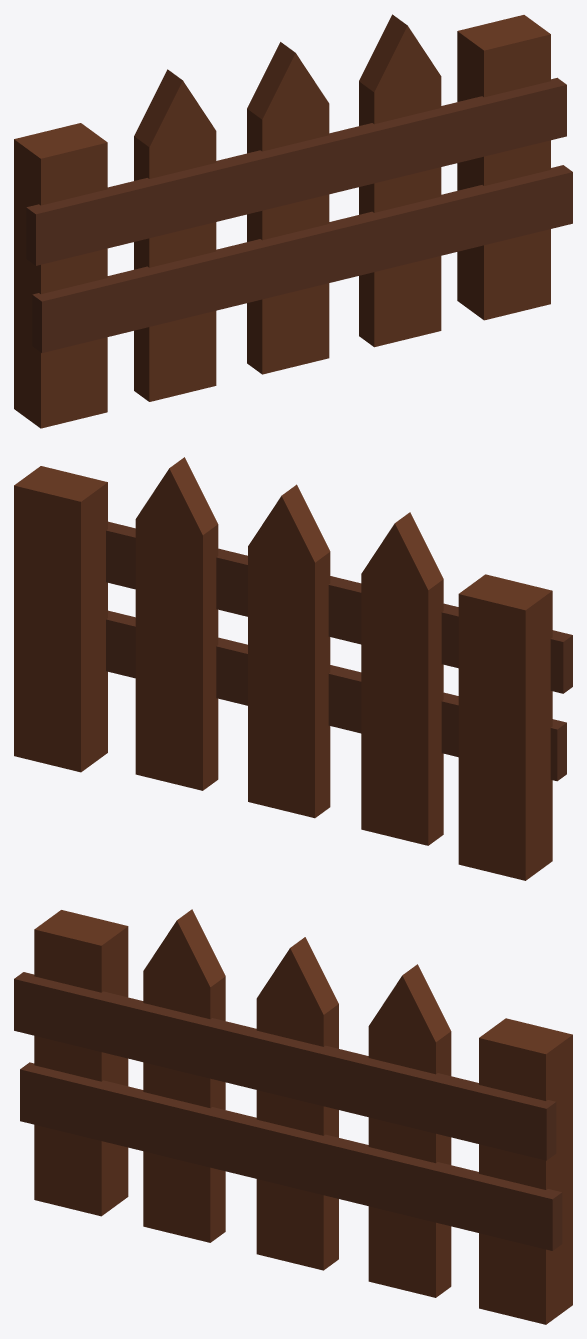
File: Fence.fbx
3 views of the same model, one above another, from view 1: azimuth 30°, elevation 25°; view 2: azimuth 150°, elevation 25°; view 3: azimuth 330°, elevation 25° (orthographic).
Visible parts, largest first — view 1: Fence; view 2: Fence; view 3: Fence.
Part boxes in pixels (left/top/right/bottom): Fence: left=14, top=14, right=572, bottom=428; Fence: left=14, top=457, right=572, bottom=880; Fence: left=14, top=909, right=572, bottom=1324.
Bounding box in the file's own units: 2.22 × 1.24 × 0.2466.
